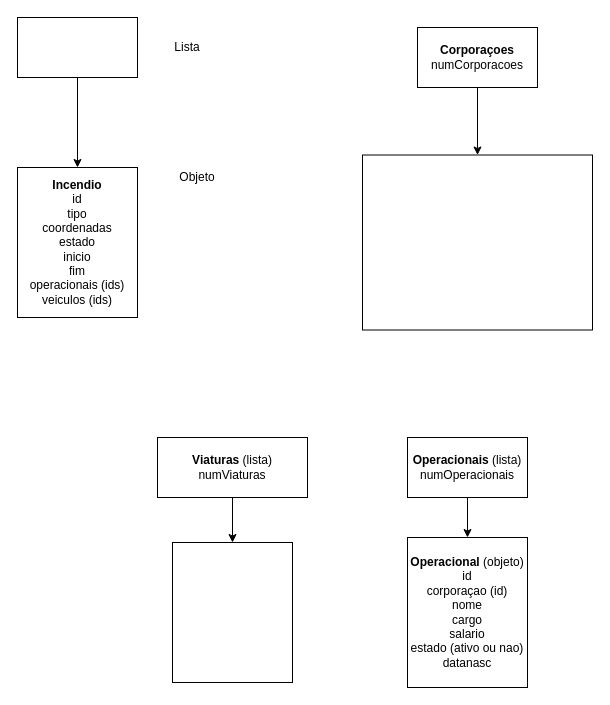
Some shapes in this 610 by 705 pixel diagram are drawn without their labels. Here are the shapes that lost their labels. From the top down, the centre of each, then its label:
the point at 77,47: Incendios numIncendios
the point at 477,242: Corporaçao id freguesia tipo (bombeiros vol, bombeiros sap)
the point at 232,612: Viatura id corporaçao (id) tipo matricula marca modelo estado (ativo ou nao)
